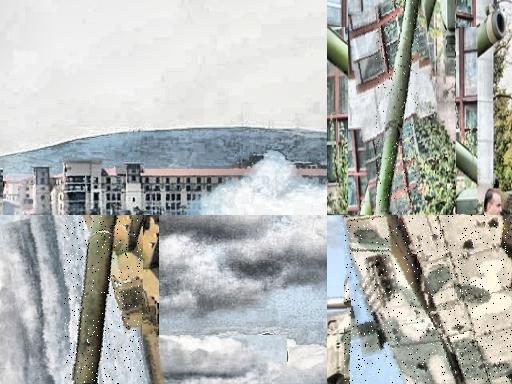tanks: (346, 216, 512, 384), (73, 216, 144, 384), (377, 1, 419, 215), (442, 1, 457, 75)
